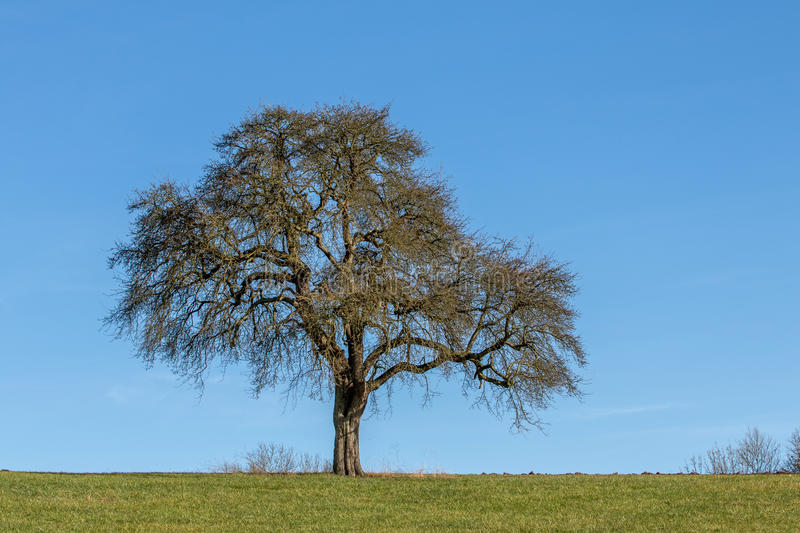tree: (98, 92, 592, 477)
